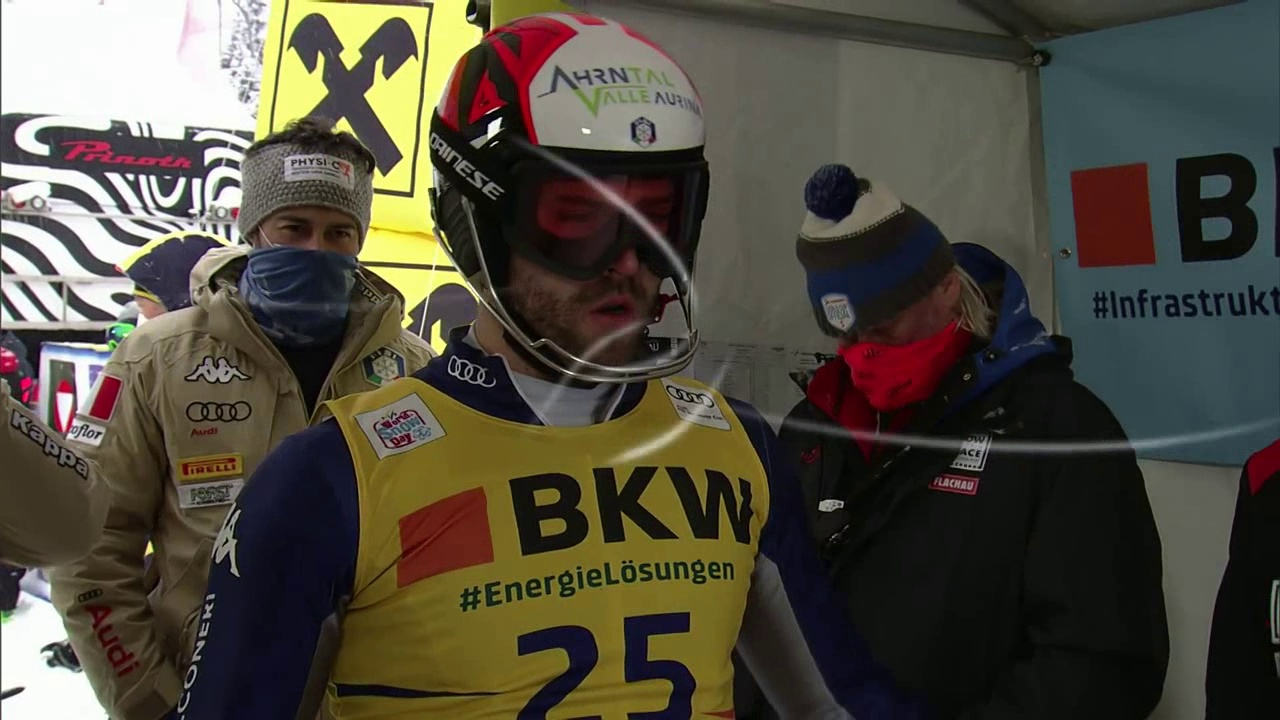a1: (78, 364, 127, 429)
audi: (184, 402, 257, 430), (447, 354, 496, 393), (666, 385, 717, 412)
unserheer: (44, 374, 79, 449)
